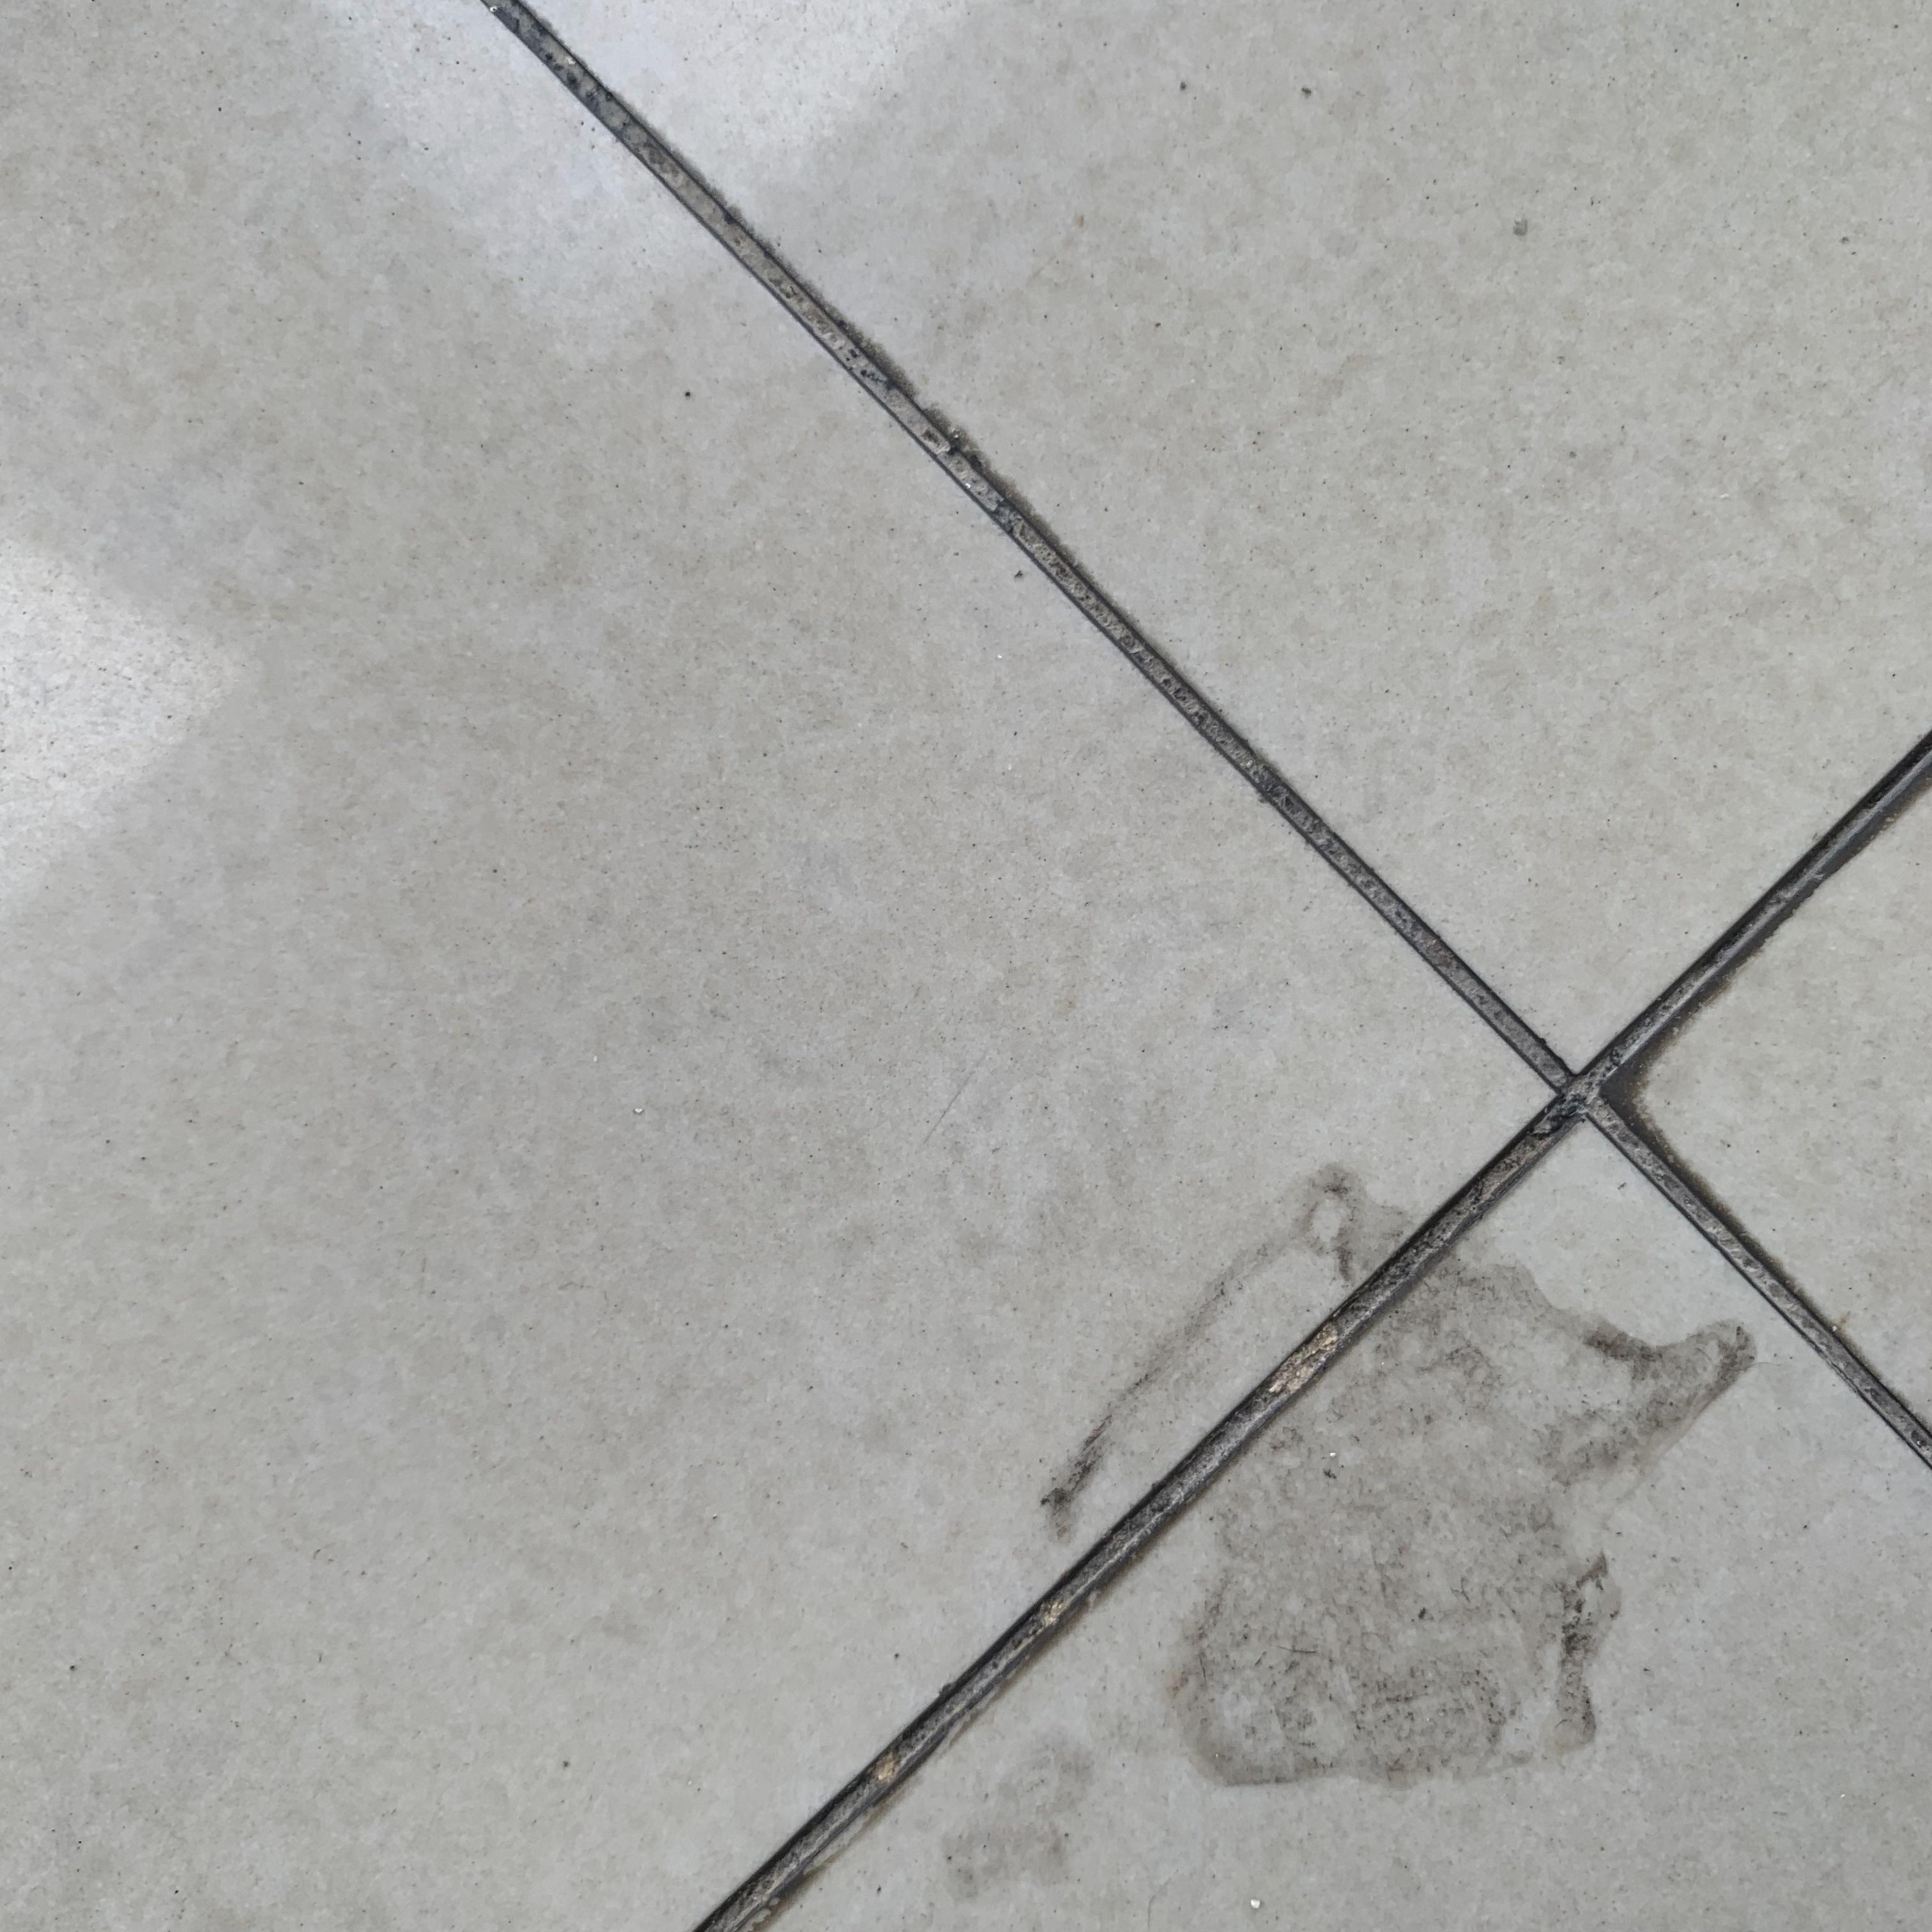grey spot: (1039, 1166, 1753, 1790), (941, 1741, 1095, 1902)
reflection: (301, 0, 975, 370), (0, 518, 269, 920)
